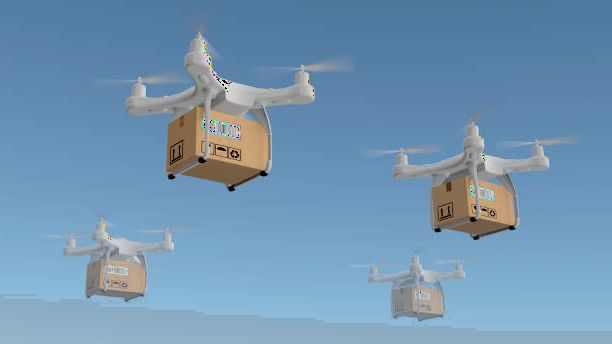Drone: (82, 12, 357, 125), (360, 113, 583, 191), (34, 211, 196, 268), (340, 240, 482, 291)
